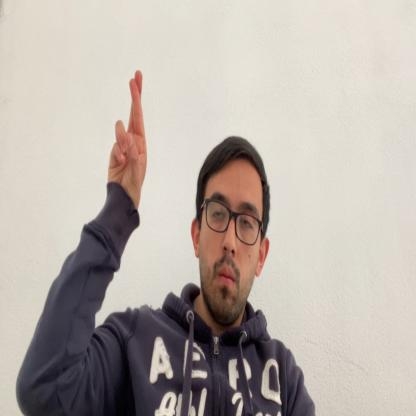R: (106, 70, 148, 214)
